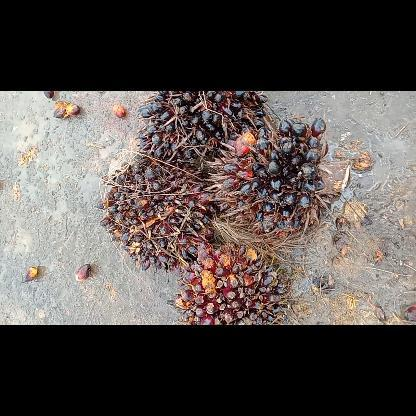TBS abnormal: (205, 114, 356, 244), (131, 90, 273, 172)
TBS masak: (92, 157, 218, 274), (171, 238, 294, 324)
